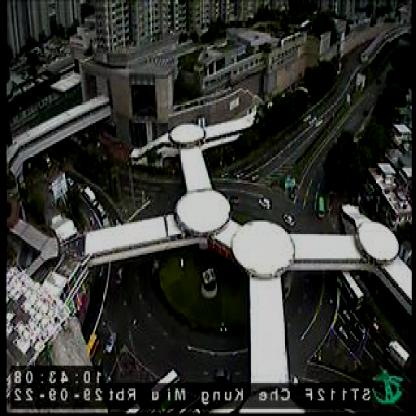Bus: (127, 362, 181, 414), (340, 269, 366, 312), (87, 334, 100, 359)
Car: (388, 340, 410, 371), (102, 330, 118, 356), (280, 209, 296, 224), (373, 315, 382, 340), (258, 194, 276, 206)
Minibus: (317, 192, 328, 218)
